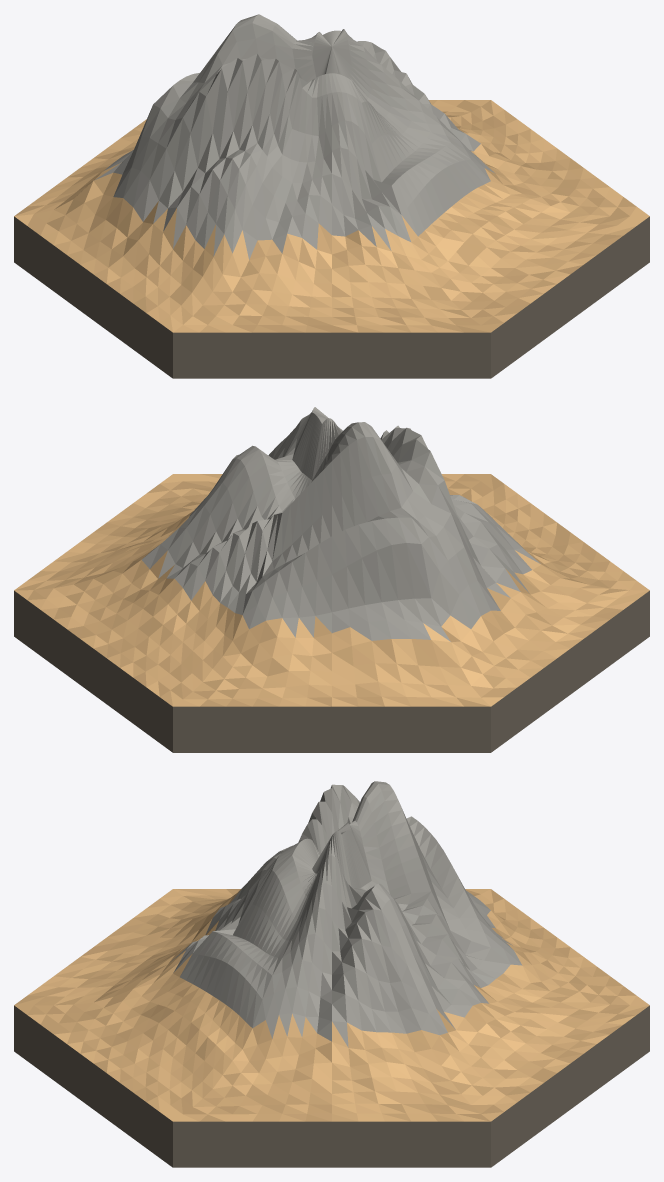
Rendered from TERRAIN_DESERT_MOUNTAIN_v02.fbx.
3 renders of one model, top to bottom at view 1: azimuth 30°, elevation 25°; view 2: azimuth 150°, elevation 25°; view 3: azimuth 270°, elevation 25°, orthographic.
Visible parts, largest first — view 1: TERRAIN_DESERT_MOUNTAIN_v02; view 2: TERRAIN_DESERT_MOUNTAIN_v02; view 3: TERRAIN_DESERT_MOUNTAIN_v02.
Part boxes in pixels (x1,y1,x2,y2): TERRAIN_DESERT_MOUNTAIN_v02: (14, 14, 649, 378); TERRAIN_DESERT_MOUNTAIN_v02: (14, 407, 649, 752); TERRAIN_DESERT_MOUNTAIN_v02: (14, 781, 649, 1167).
Bounding box in the file's own units: 173 × 84.52 × 200.
